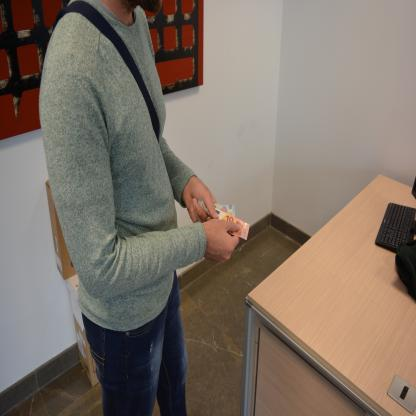billete: (214, 207, 250, 240), (196, 198, 236, 217)
